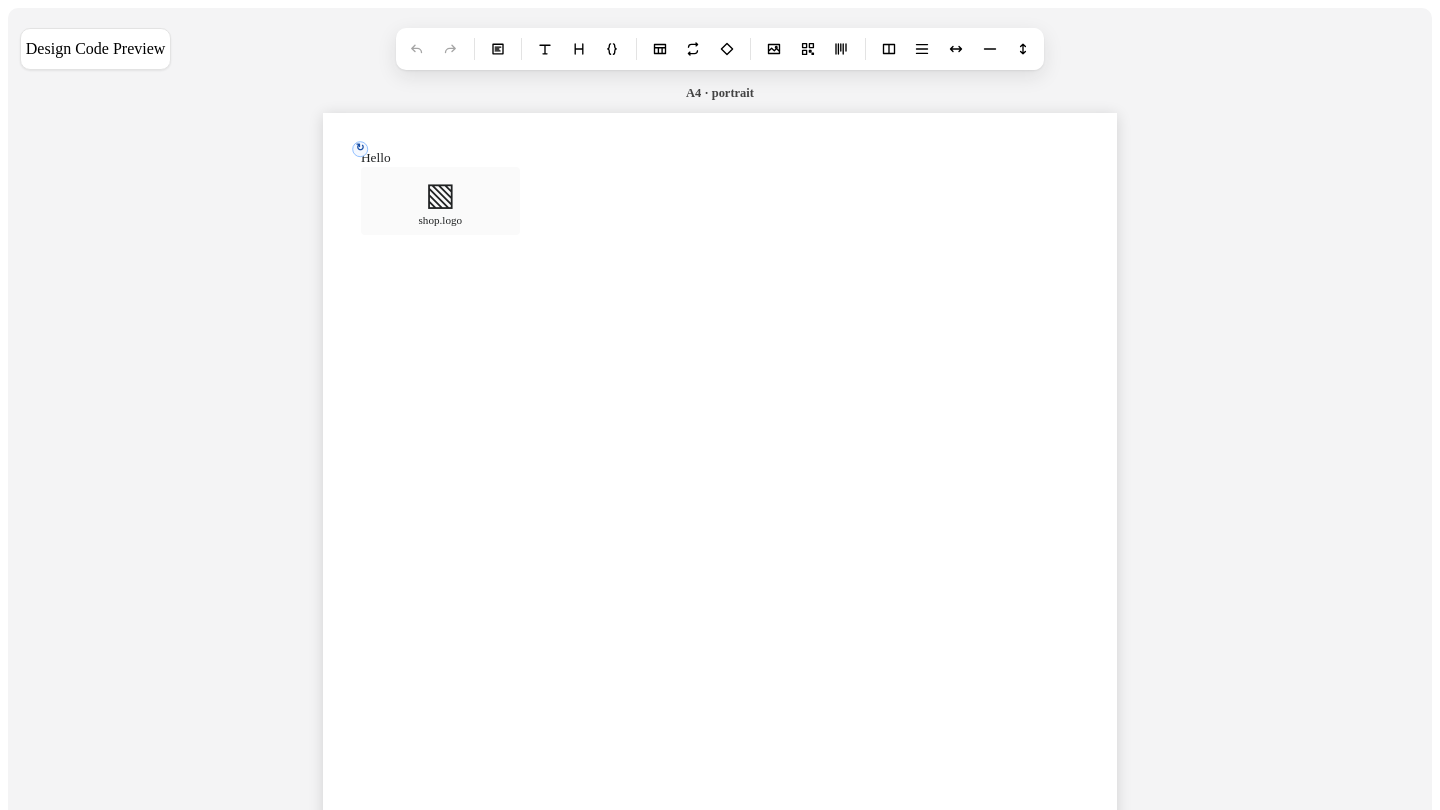
Shopify document editor layout › shows workspace, insert, and changing selection tools in one card
Expected: the element showing "Design Code Preview" is shown, [20,28,1044,70]
Expected: the text "Design Code Preview" is shown, [26,40,165,58]
Click the element showing "Hello". click: (376, 158)
box: [361,150,390,165]
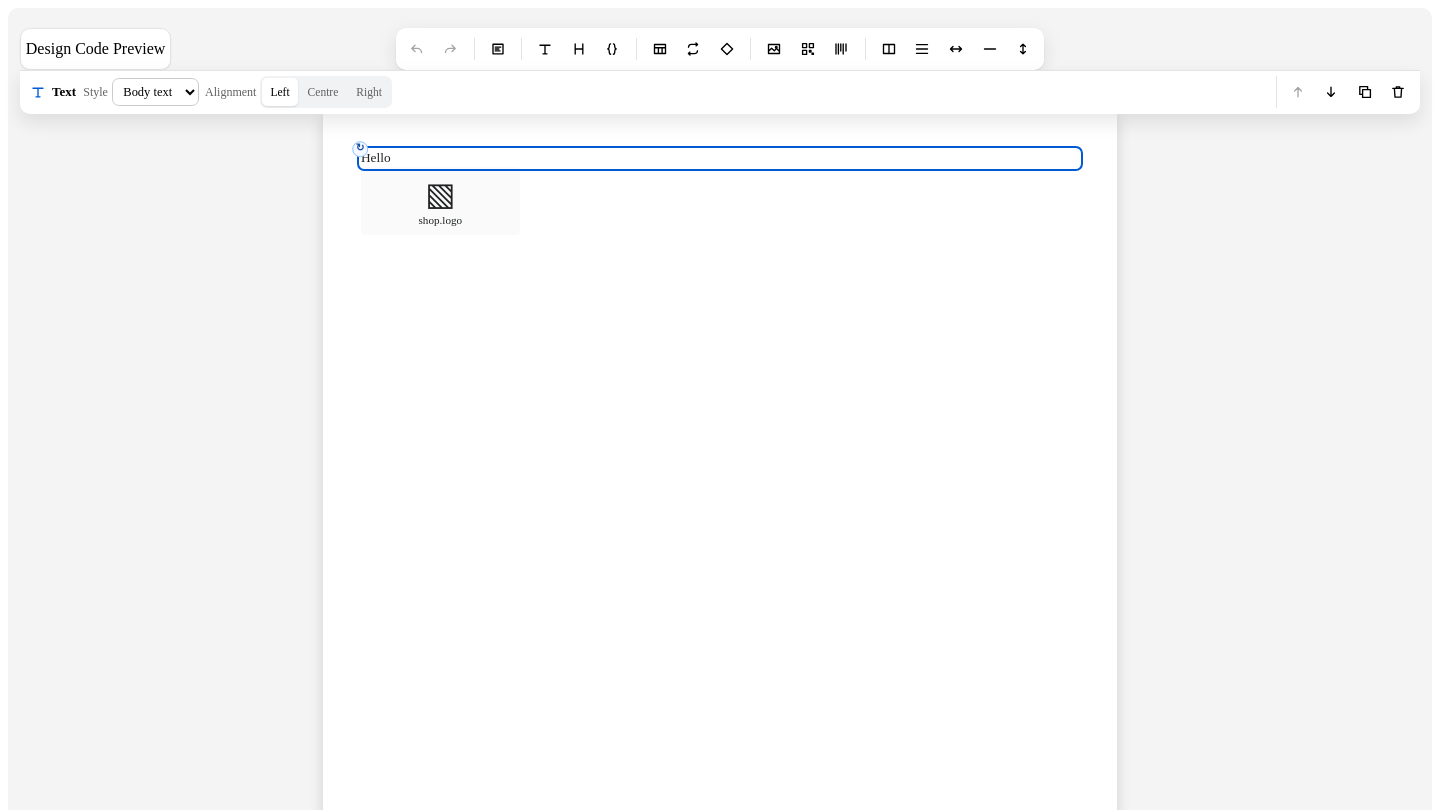
Result: the element showing "Text" is shown at [30,84,76,100]
Result: the element showing "Text Style Alignment Left Centre Right" is shown at [20,70,1420,114]
Result: the dropdown labelled "Style" is shown at [112,78,199,106]
Click the element showing "▧ shop.logo". click: (440, 201)
box: [361,167,520,235]
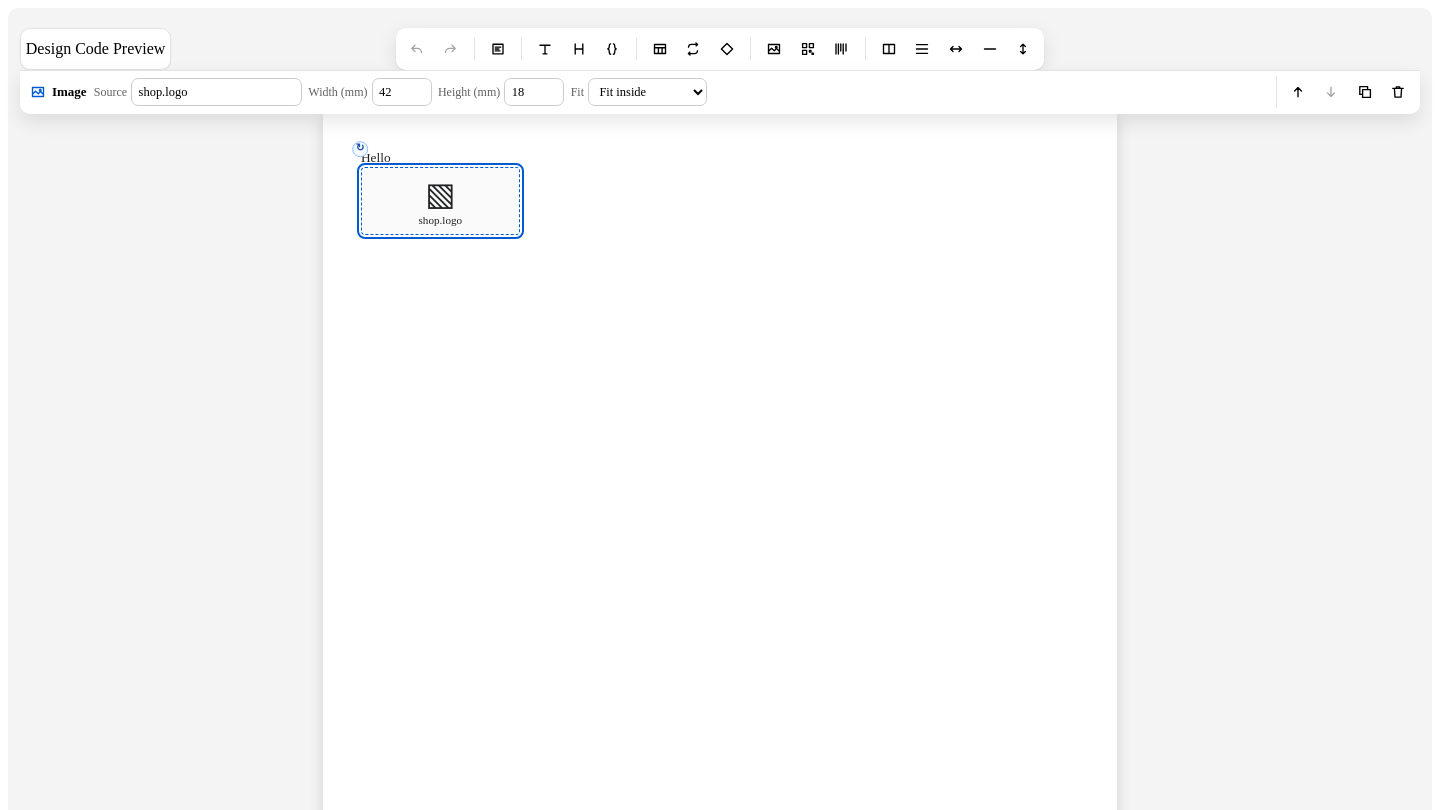
Result: the element showing "Image" is shown at [30,84,87,100]
